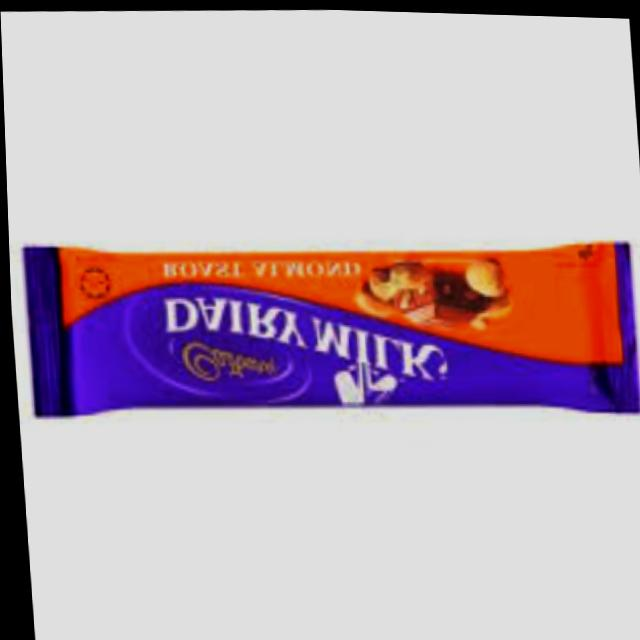cadbury: (56, 228, 629, 421)
